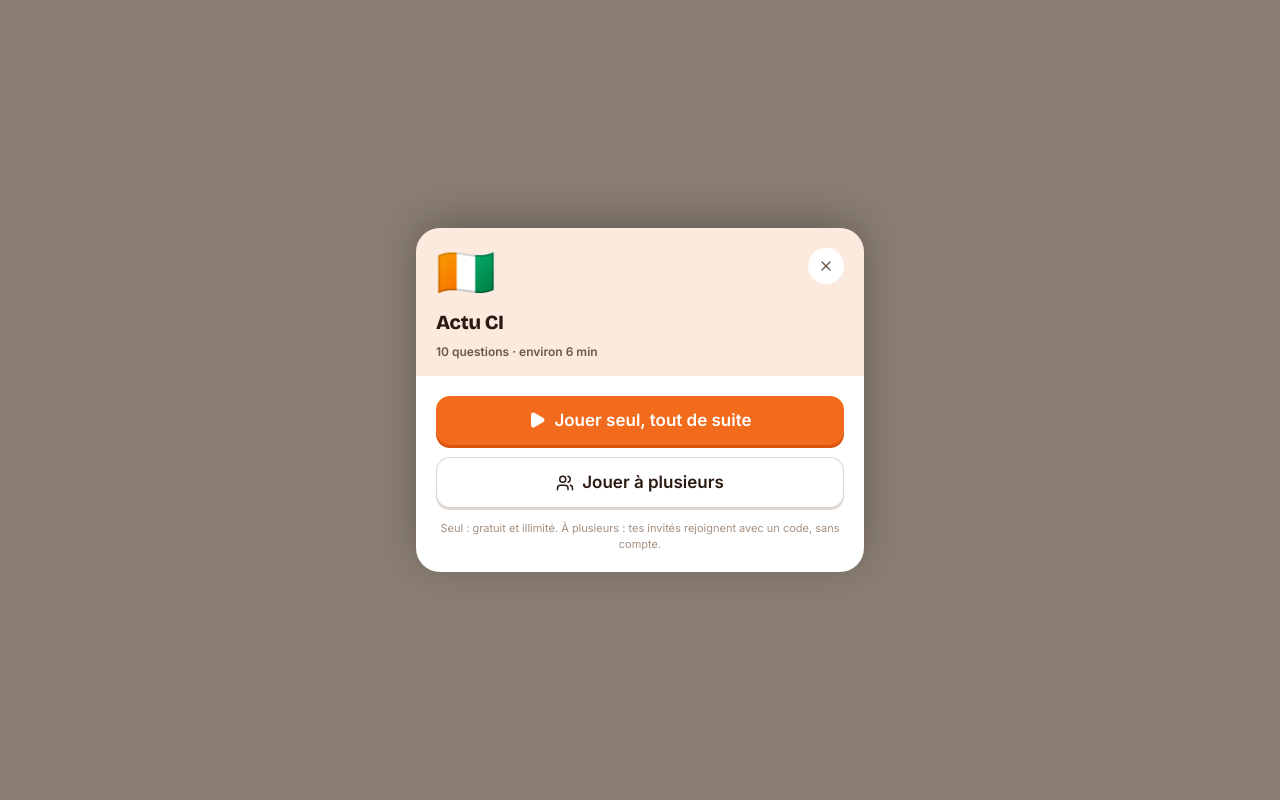
feuille de lancement › erreur serveur : message lisible, on reste sur la feuille
Click the button "Jouer seul, tout de suite": (640, 420) [436, 396, 844, 445]
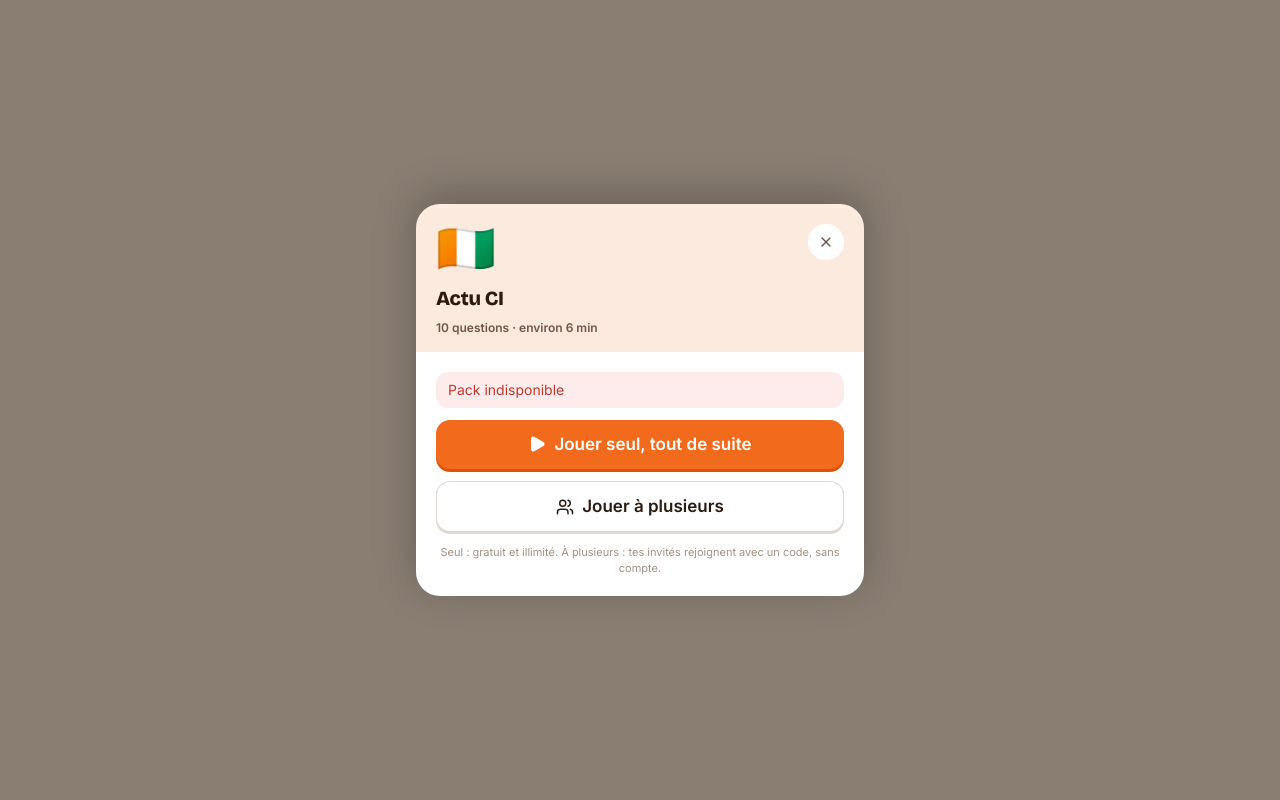
Now the message reads "Pack indisponible", box [448, 381, 564, 398]
